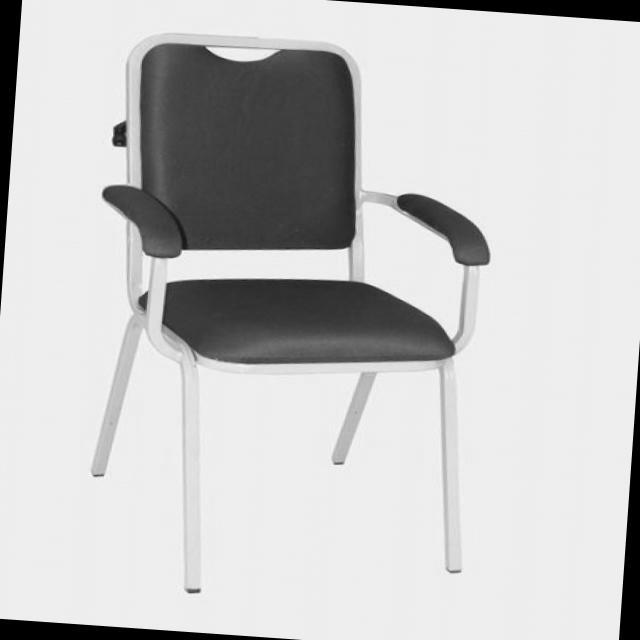chair: (76, 19, 515, 614)
